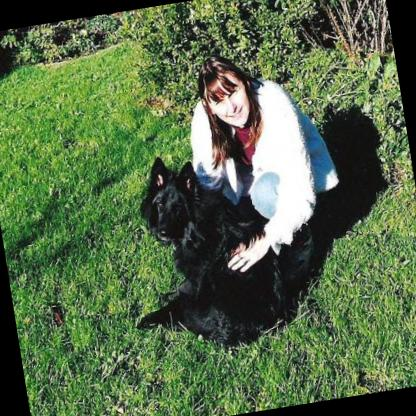groenendael: (108, 131, 312, 356)
